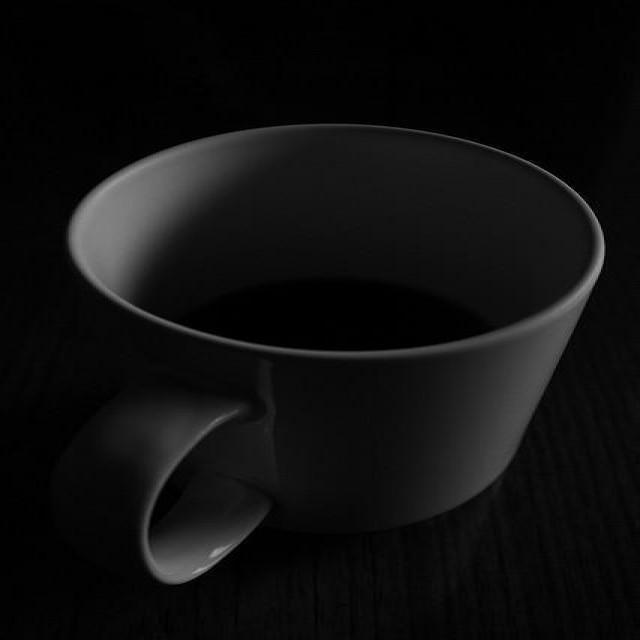cup-handle: (60, 119, 608, 588)
